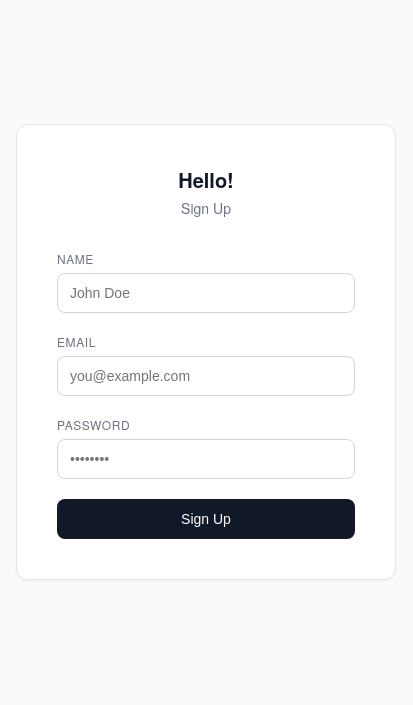
Test: SignUpPage submit states › shows error state when submitting empty form
Click the button "Sign Up": click(206, 519) left=57, top=499, right=355, bottom=539
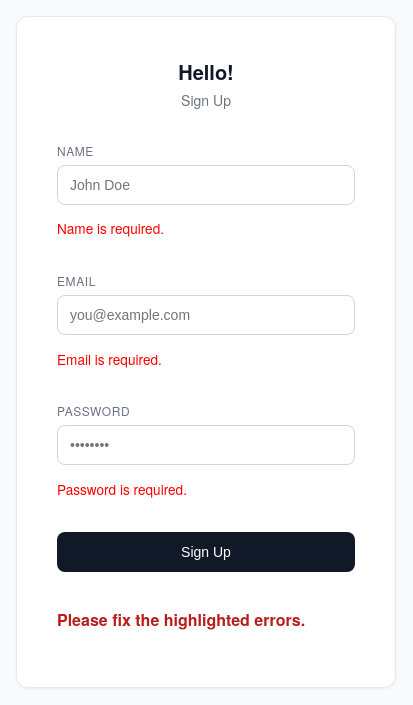
expect the text "Name is required." is shown: met, box left=57, top=218, right=164, bottom=238
expect the text "Email is required." is shown: met, box left=57, top=348, right=162, bottom=368
expect the text "Password is required." is shown: met, box left=57, top=479, right=187, bottom=499
